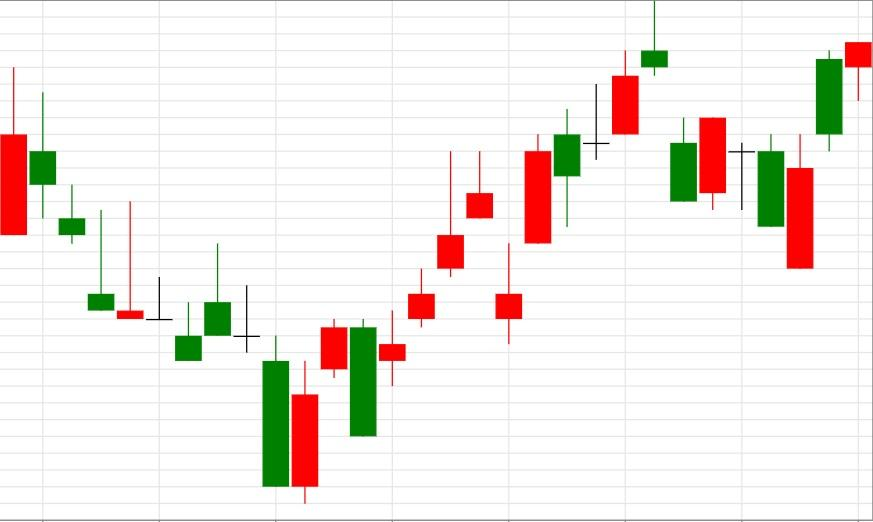bearish_engulfing_fall: (262, 318, 378, 506)
shooting_star_fall: (495, 0, 669, 345)
